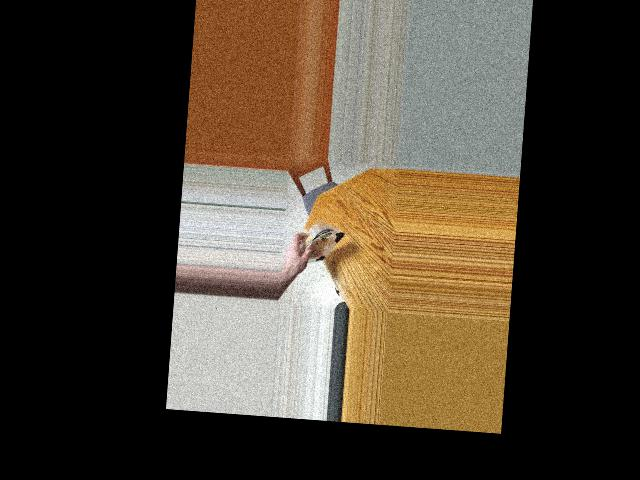cheese: (300, 217, 343, 277)
